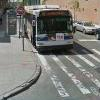Bus: (22, 3, 80, 58)
